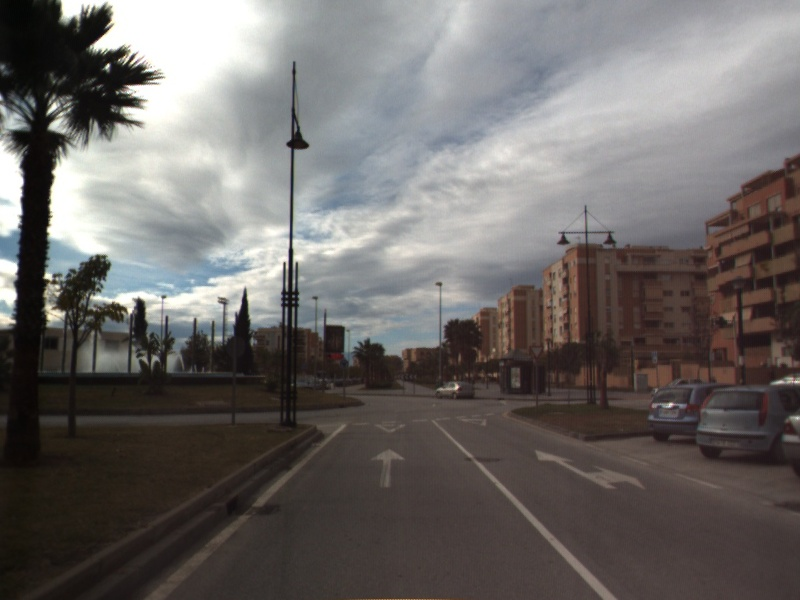STRAIGHT: (369, 447, 407, 489)
STRAIGHT_RIGHT: (534, 448, 647, 492)
